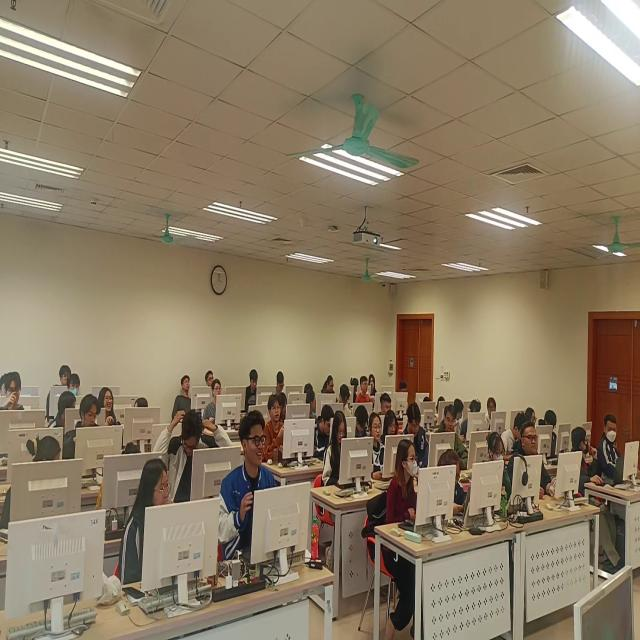raise_head: (218, 409, 279, 564), (508, 422, 555, 500), (385, 438, 422, 529), (324, 409, 349, 492), (265, 394, 287, 464), (368, 409, 386, 477), (2, 370, 28, 416), (201, 377, 223, 429), (170, 371, 194, 418), (100, 384, 118, 428), (486, 395, 498, 433), (68, 372, 82, 399), (58, 366, 73, 390), (526, 403, 538, 431), (205, 369, 217, 390), (370, 370, 378, 394)
using_computer: (120, 454, 173, 589), (98, 442, 145, 516), (63, 394, 101, 462), (486, 428, 515, 510), (402, 402, 432, 466), (313, 401, 335, 459), (501, 408, 526, 454), (539, 408, 560, 462), (383, 407, 399, 473), (354, 402, 372, 440), (246, 367, 260, 407), (356, 375, 372, 404), (274, 366, 288, 395), (320, 373, 336, 398), (280, 390, 291, 423), (379, 392, 393, 416), (397, 377, 409, 394), (351, 376, 359, 401), (437, 395, 446, 417), (1, 370, 8, 397), (399, 380, 407, 394), (423, 395, 433, 405)
using_phone: (436, 447, 474, 528)
